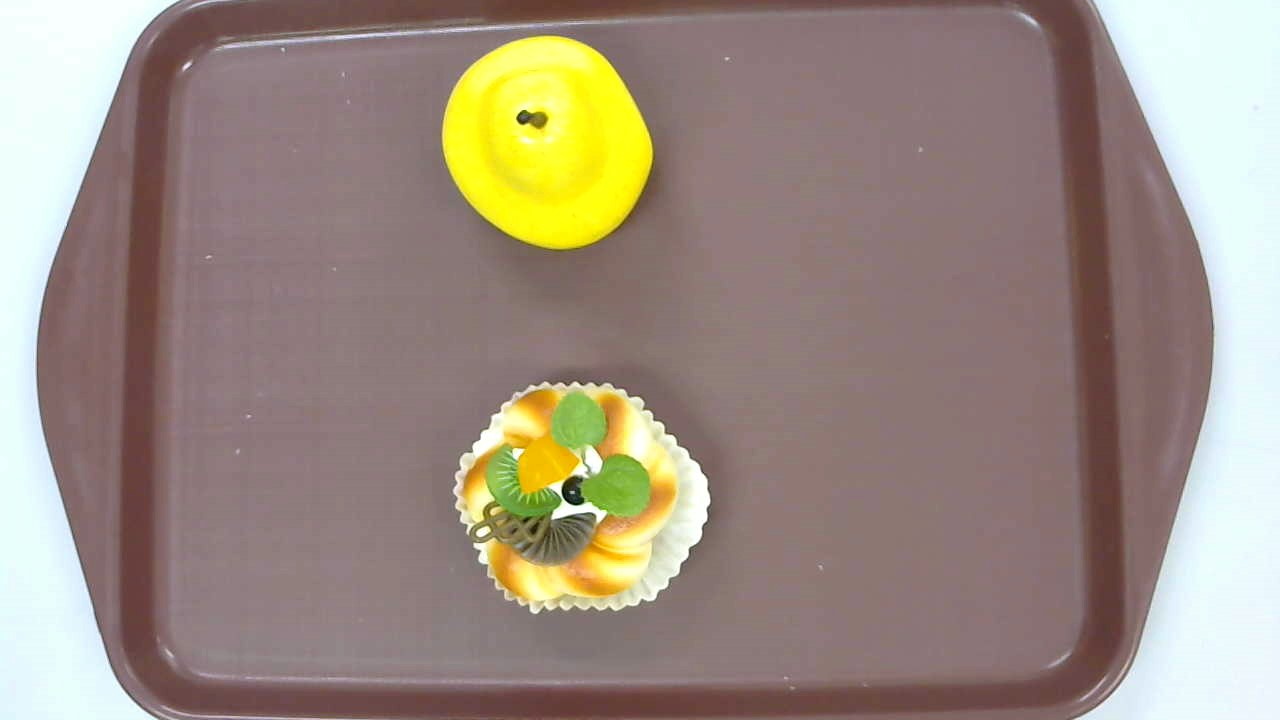fruit tart: (453, 382, 711, 615)
yellow pear: (443, 34, 653, 250)
